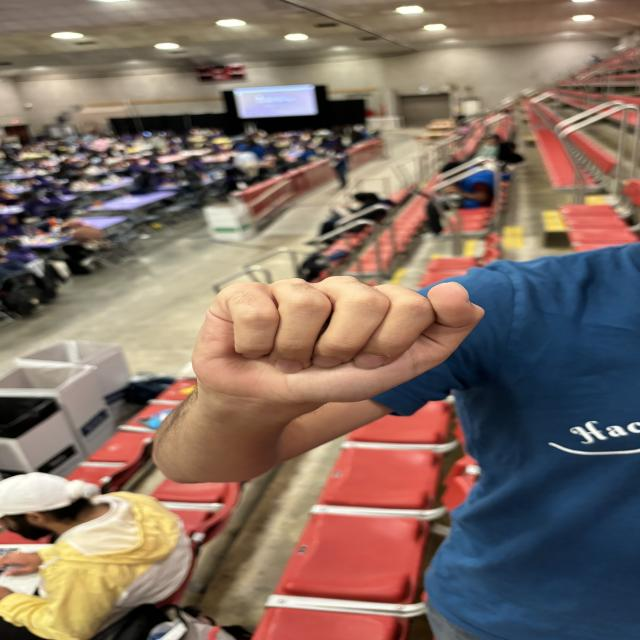A: (176, 270, 497, 404)
